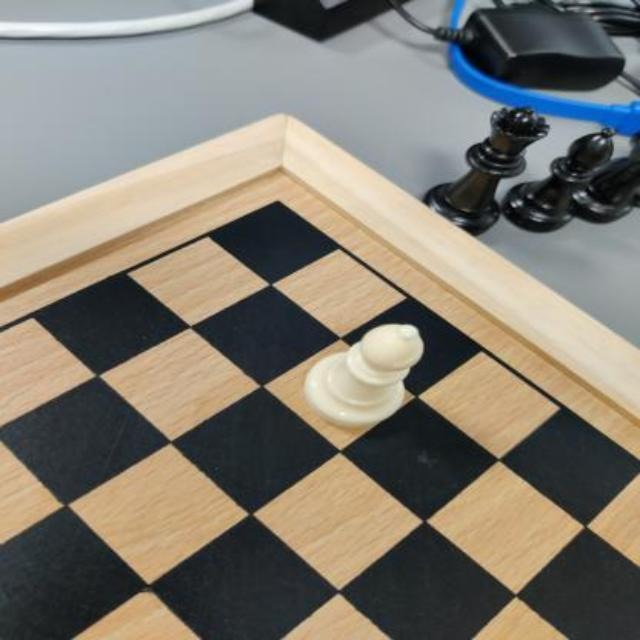white-bishop: (306, 324, 424, 425)
